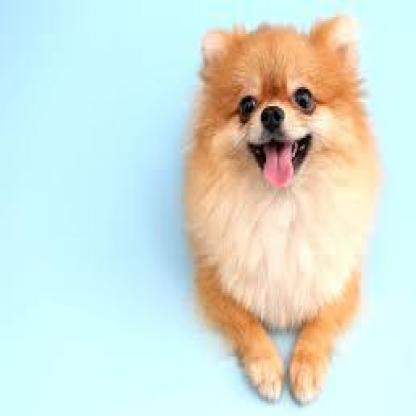Pomeranian: (184, 10, 380, 410)
